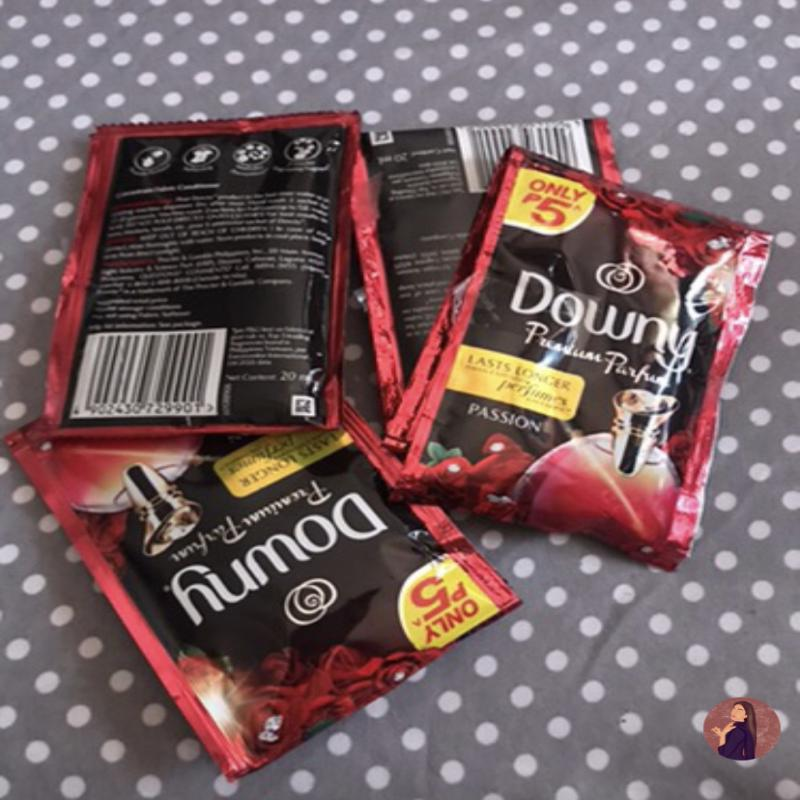plastic sachet: (9, 401, 524, 783), (385, 148, 772, 573), (43, 115, 359, 433), (352, 119, 622, 421)
